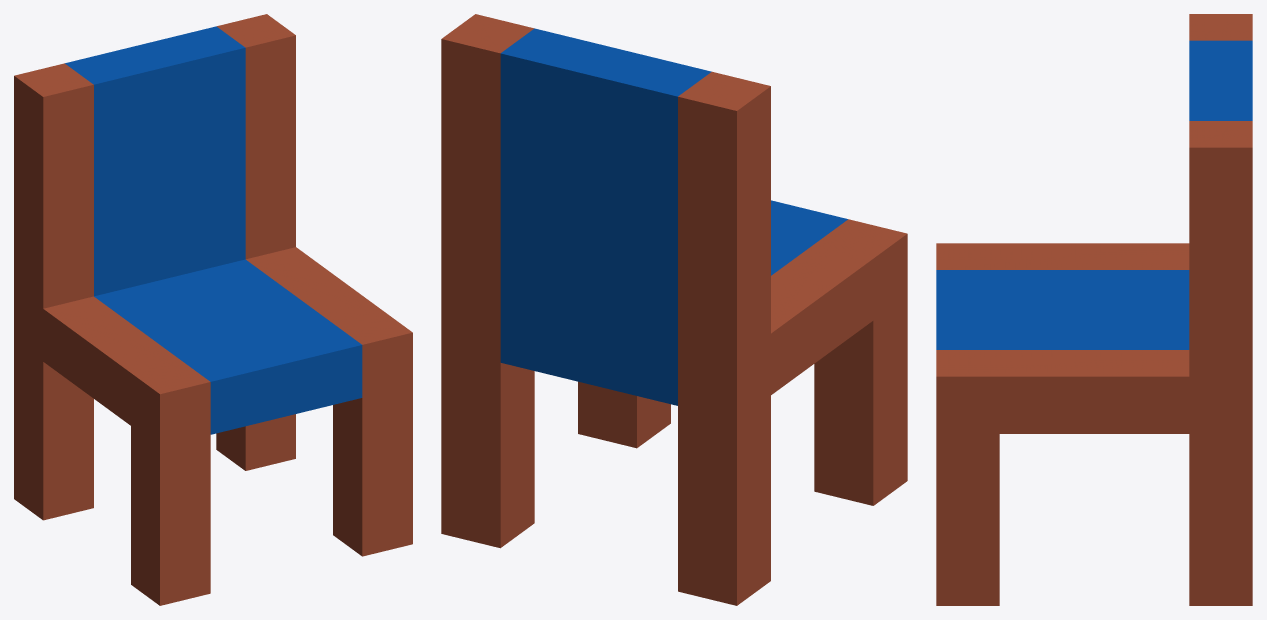
The model's file is chair_a_blue.obj.
The picture shows the model from 3 angles, left to right: view 1: azimuth 30°, elevation 25°; view 2: azimuth 150°, elevation 25°; view 3: azimuth 270°, elevation 25°; orthographic projection. The views are drawn at different scales.
Bounding box in the file's own units: 0.5 × 0.8 × 0.5.
Materials: 1 (1 with a texture image).
